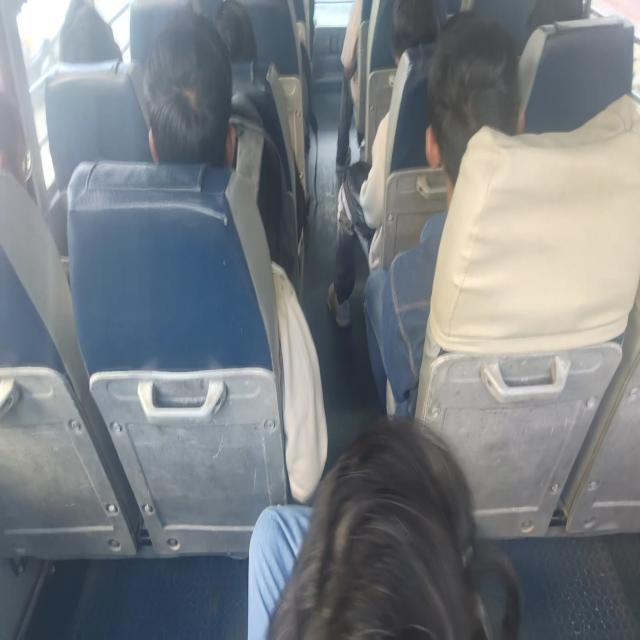person: (252, 402, 508, 640), (434, 27, 516, 192), (144, 31, 233, 163), (184, 0, 260, 66), (58, 0, 120, 61), (388, 0, 448, 61), (0, 88, 35, 184), (519, 0, 585, 41)
